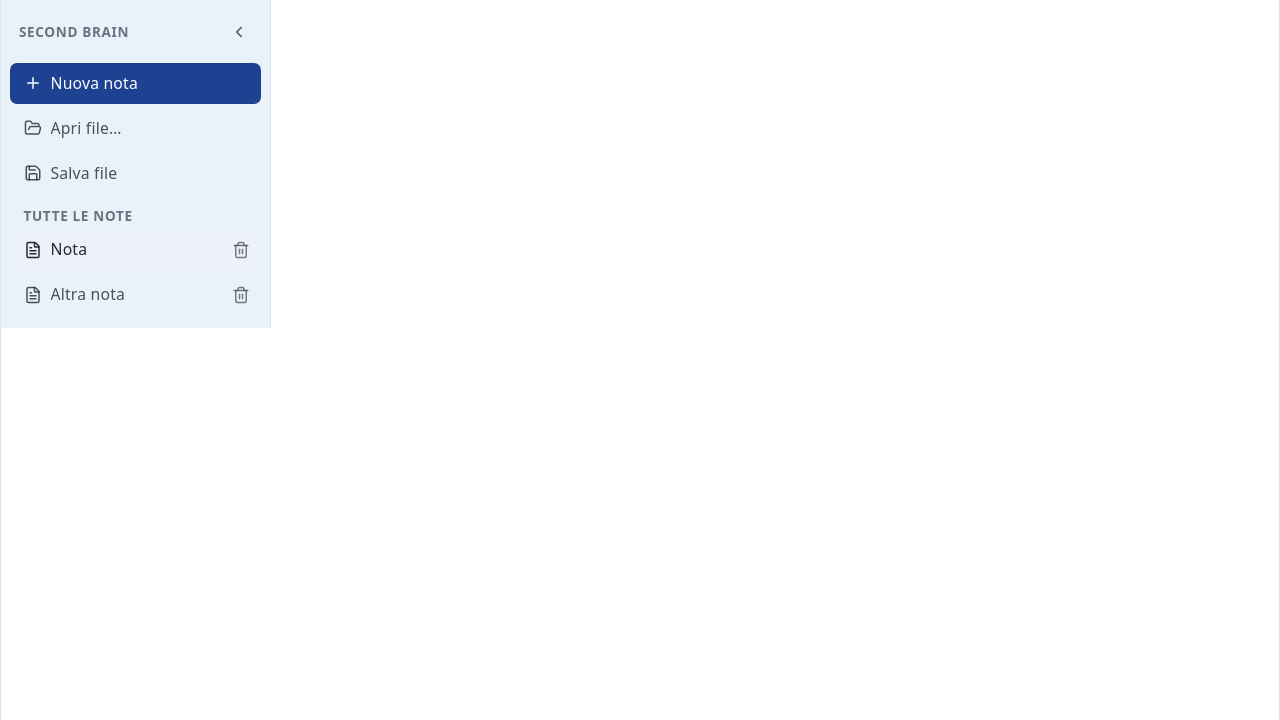
Test case: Sidebar — eliminazione nota › la conferma si apre su una riga sola
Click the button named "Elimina «Nota»": coordinates (241, 250) [225,234,256,266]
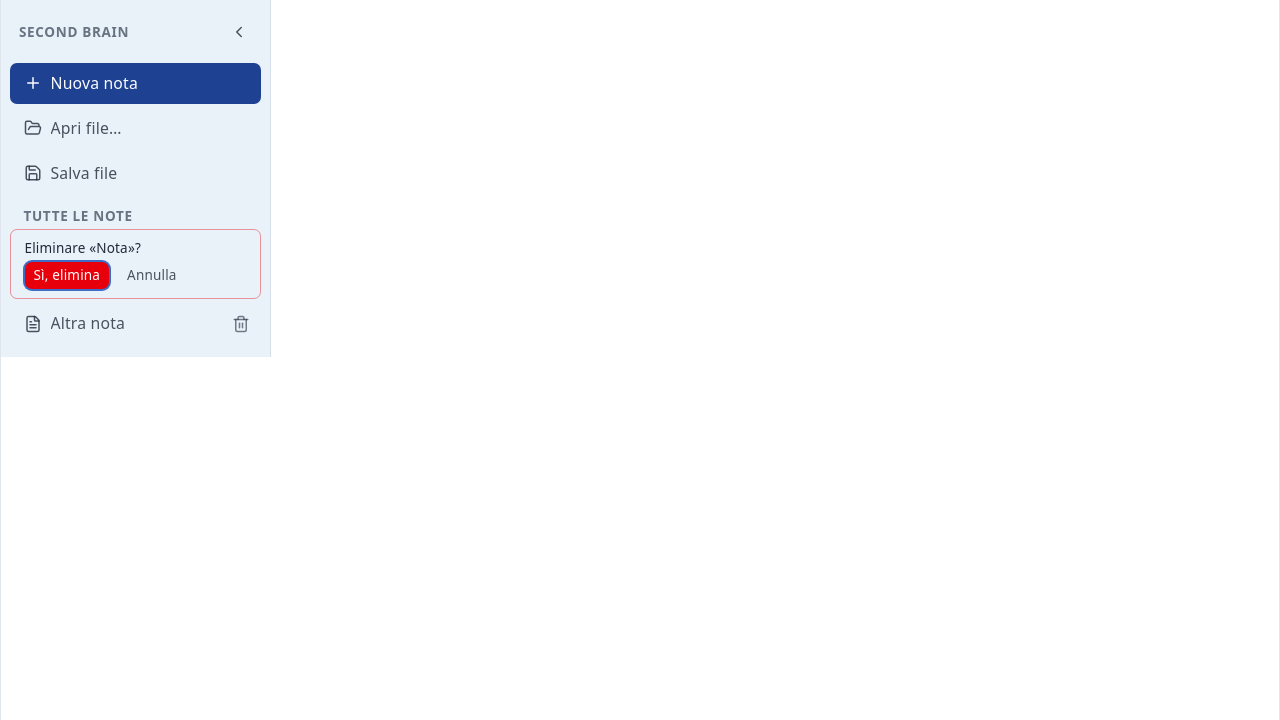
Expected: the button named "Elimina «Altra nota»" is shown, [225,308,256,340]
Expected: the text "Eliminare «Nota»?" is shown, [24,240,141,258]
